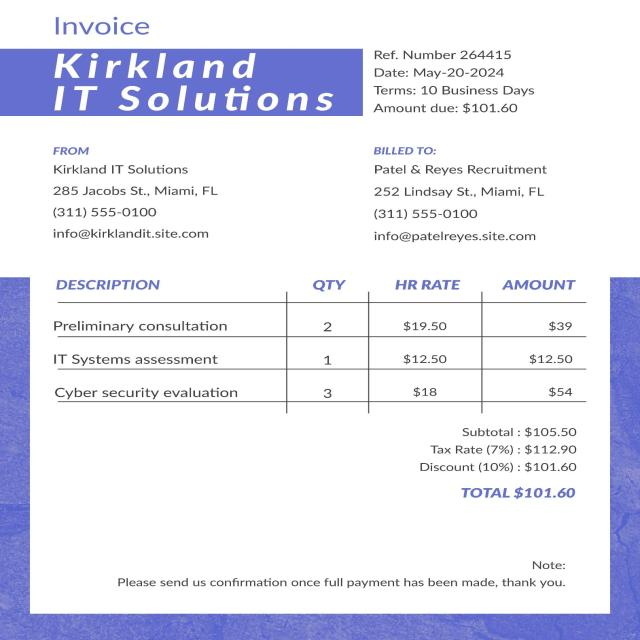paragraph: (362, 133, 574, 246), (41, 139, 245, 242), (96, 556, 584, 598), (47, 49, 343, 110), (413, 417, 597, 508), (371, 42, 536, 119), (48, 15, 156, 38)
table: (48, 268, 588, 406)
